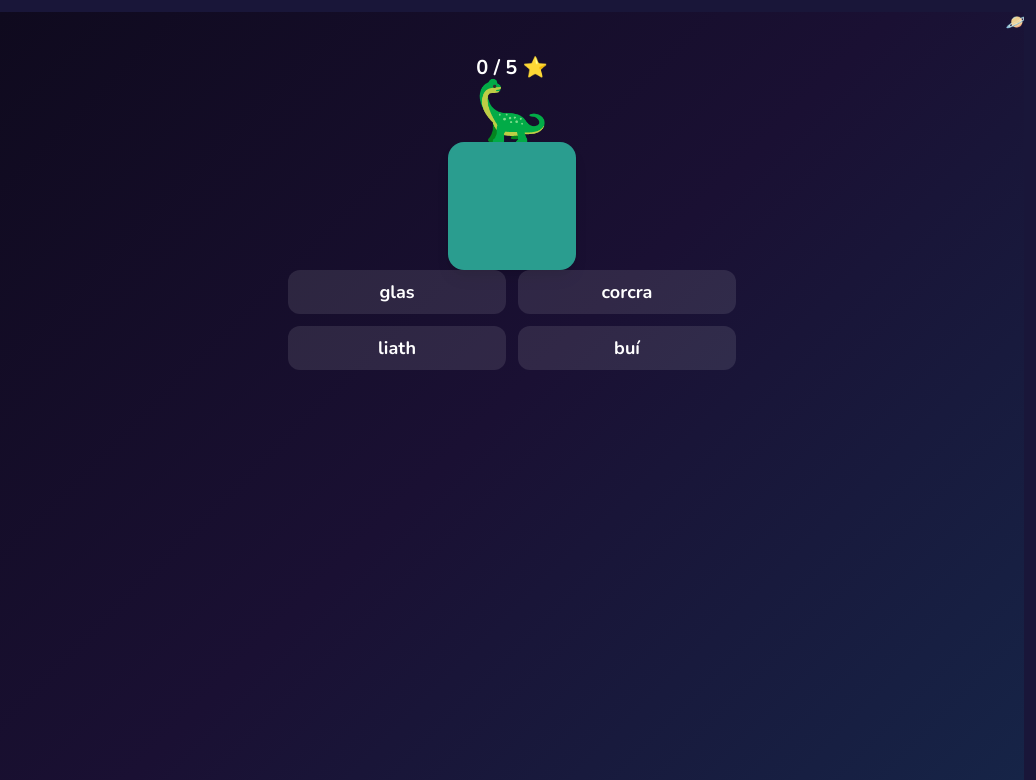
Test: ColorMatch › Gameplay - correct answer › shows "Maith thú!" when correct answer is selected
Click the button "glas" at (397, 292), box top-left (288, 270), bottom-right (506, 314)
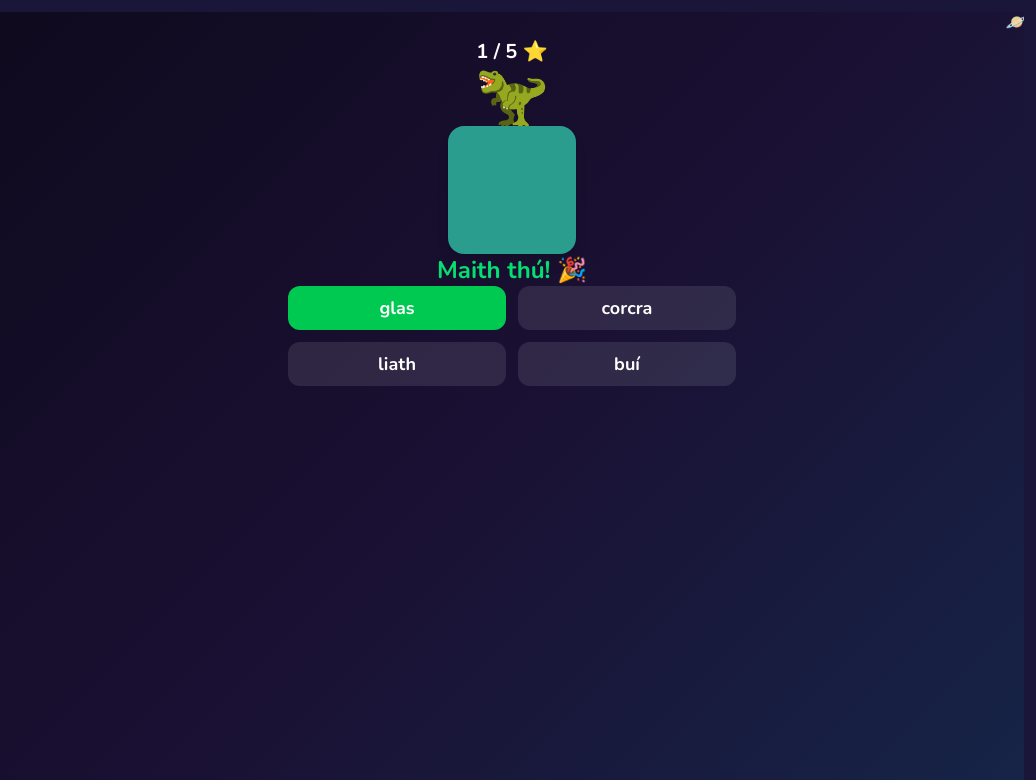
Now the text "Maith thú! 🎉" is shown, box top-left (437, 254), bottom-right (587, 286)
